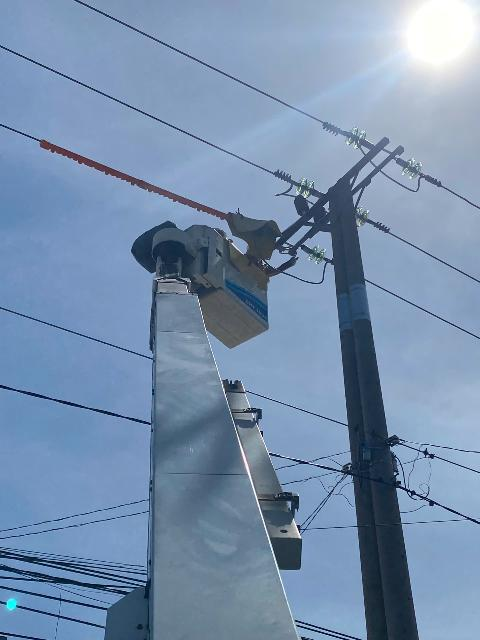gloves: (285, 255, 302, 267)
helmet: (244, 242, 255, 254)
